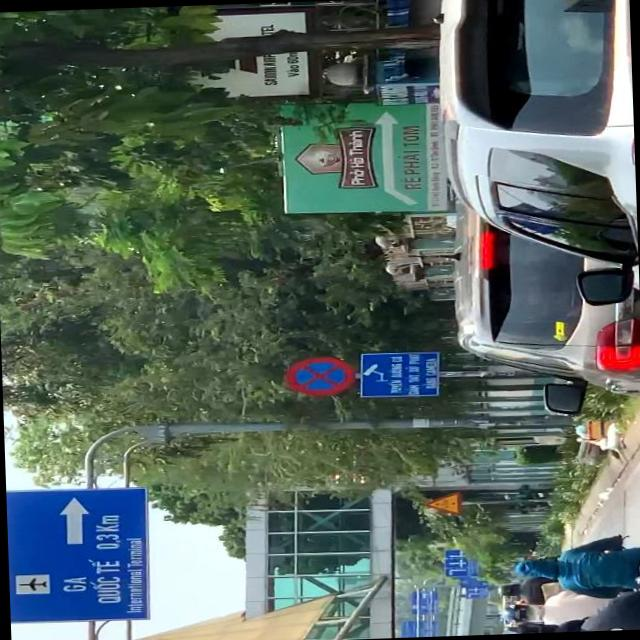P-130: (285, 356, 356, 396)
